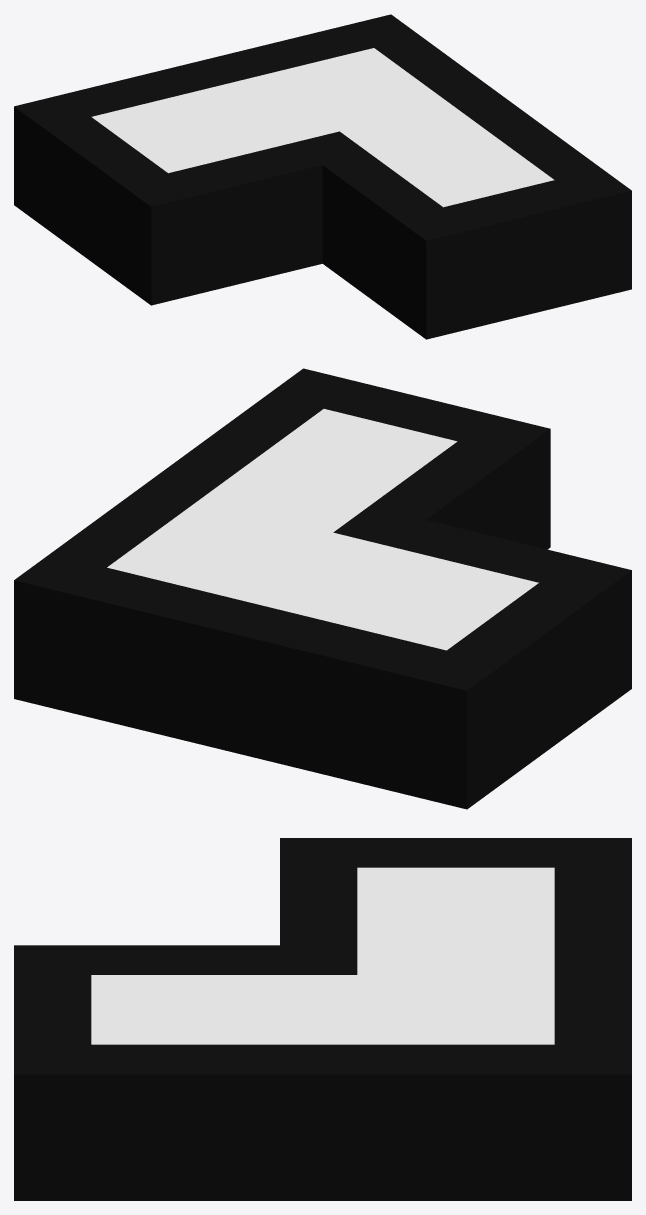
The model's file is Font_Number_7_01.fbx.
3 renders of one model, top to bottom at view 1: azimuth 30°, elevation 25°; view 2: azimuth 150°, elevation 25°; view 3: azimuth 270°, elevation 25°, orthographic. The views are drawn at different scales.
Visible parts, largest first — view 1: Font_Number_7_01; view 2: Font_Number_7_01; view 3: Font_Number_7_01.
Part boxes in pixels (x1,y1,x2,y2): Font_Number_7_01: (14, 14, 631, 339); Font_Number_7_01: (14, 368, 631, 809); Font_Number_7_01: (14, 838, 631, 1200).
Bounding box in the file's own units: 77.66 × 19.44 × 85.9.
